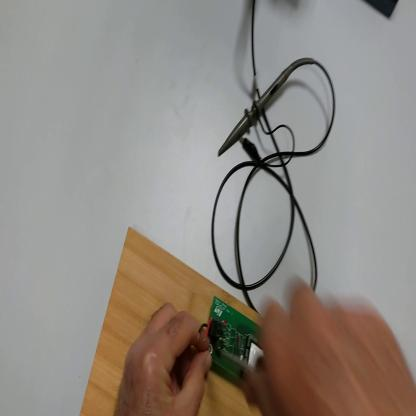hand: (247, 284, 416, 415), (116, 307, 212, 414)
high voltage board: (200, 295, 253, 379)
oscilloscope probe tip: (219, 63, 293, 155)
screwdriver-: (213, 346, 265, 398)
working area: (81, 226, 259, 416)
